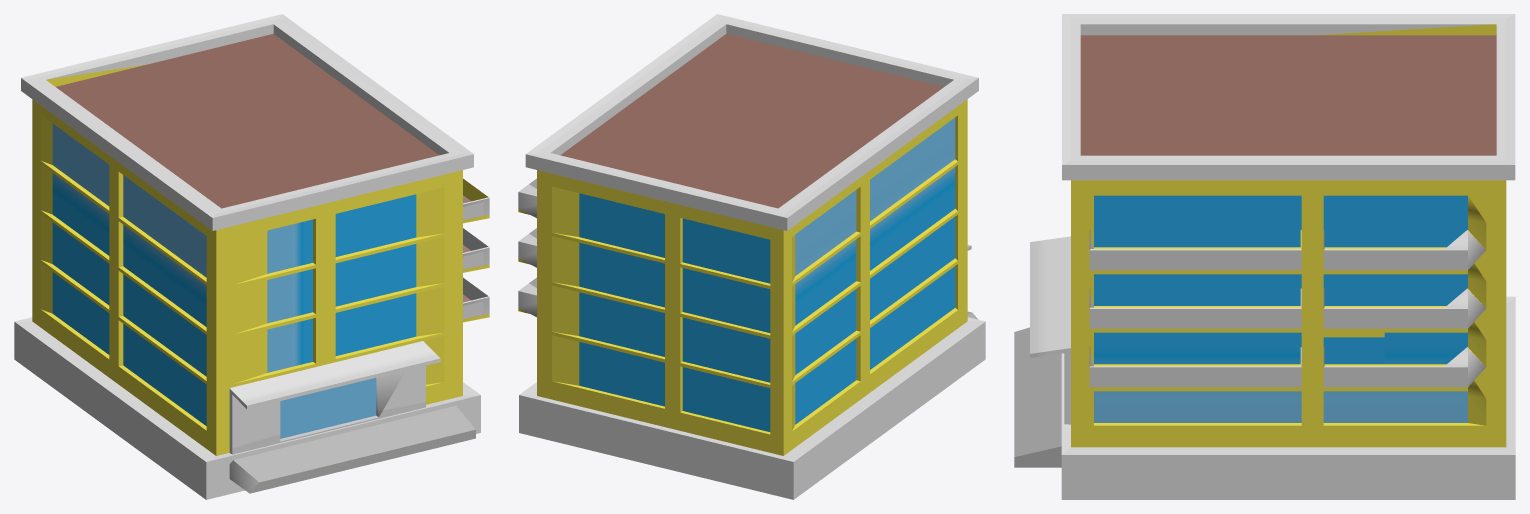
The model's file is YellowBuilding6x8x7.fbx.
The picture shows the model from 3 angles, left to right: view 1: azimuth 30°, elevation 25°; view 2: azimuth 150°, elevation 25°; view 3: azimuth 270°, elevation 25°; orthographic projection. The views are drawn at different scales.
Visible parts, largest first — view 1: House; view 2: House; view 3: House.
Part boxes in pixels (x1,y1,x2,y2): House: (14, 14, 489, 499); House: (518, 14, 985, 499); House: (1014, 14, 1515, 499).
Size of the model in its own units: 7.82 by 7.09 by 9.73.
Materials: 1 (1 with a texture image).
